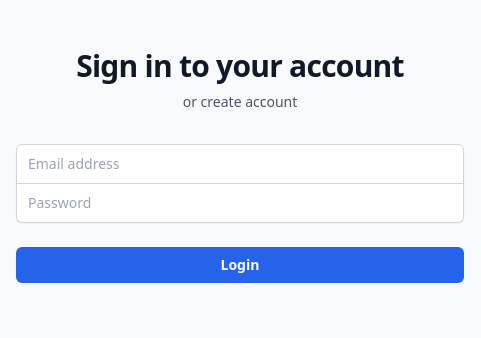
Test: LoginPage › Error Handling › displays generic error message for non-Error objects
Type "test@example.com" into the field with placeholder "Email address" at (240, 164), box [16,144,464,184]
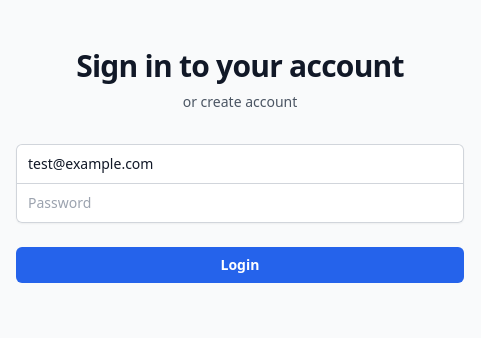
Type "password123" into the password field with placeholder "Password" at (240, 202), box [16,182,464,222]
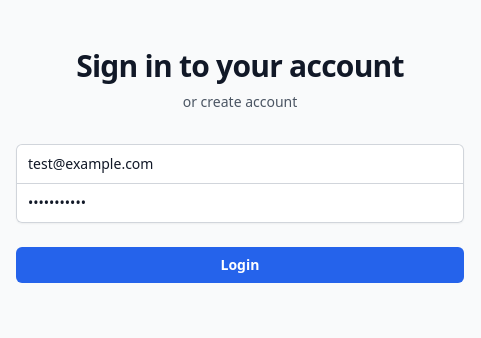
Click the button "Login" at (240, 264), box [16,246,464,282]
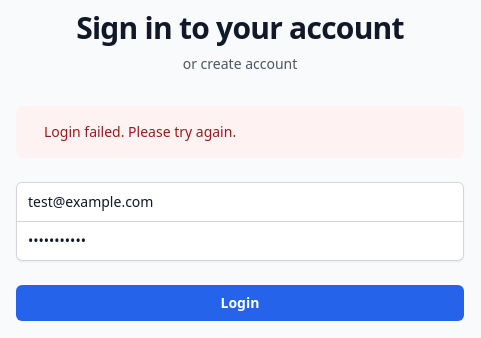
Expected: the heading "Login failed. Please try again." is shown, [44,122,236,142]
